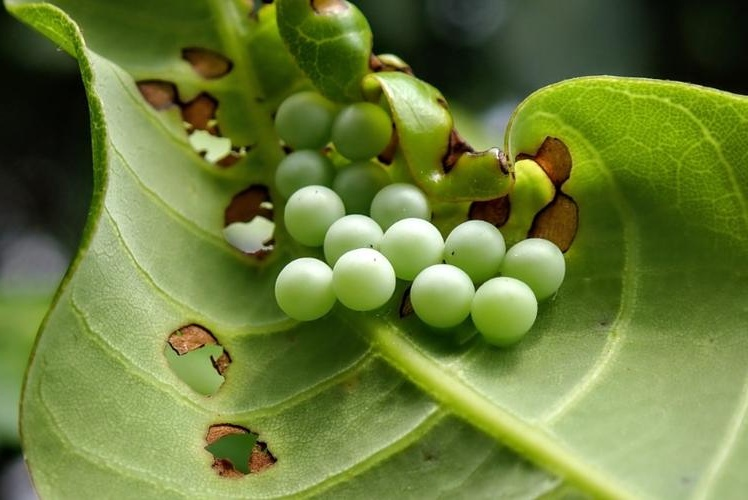Stink_Bug: (263, 17, 562, 348)
